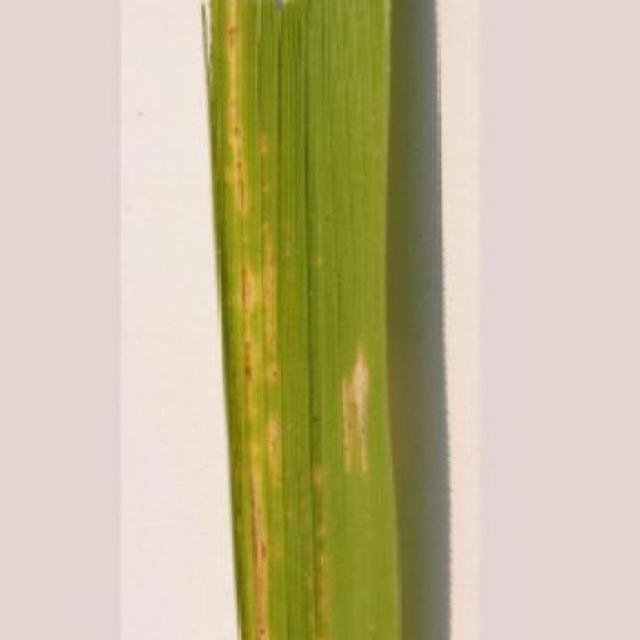Brown_Spot: (192, 0, 406, 640)
